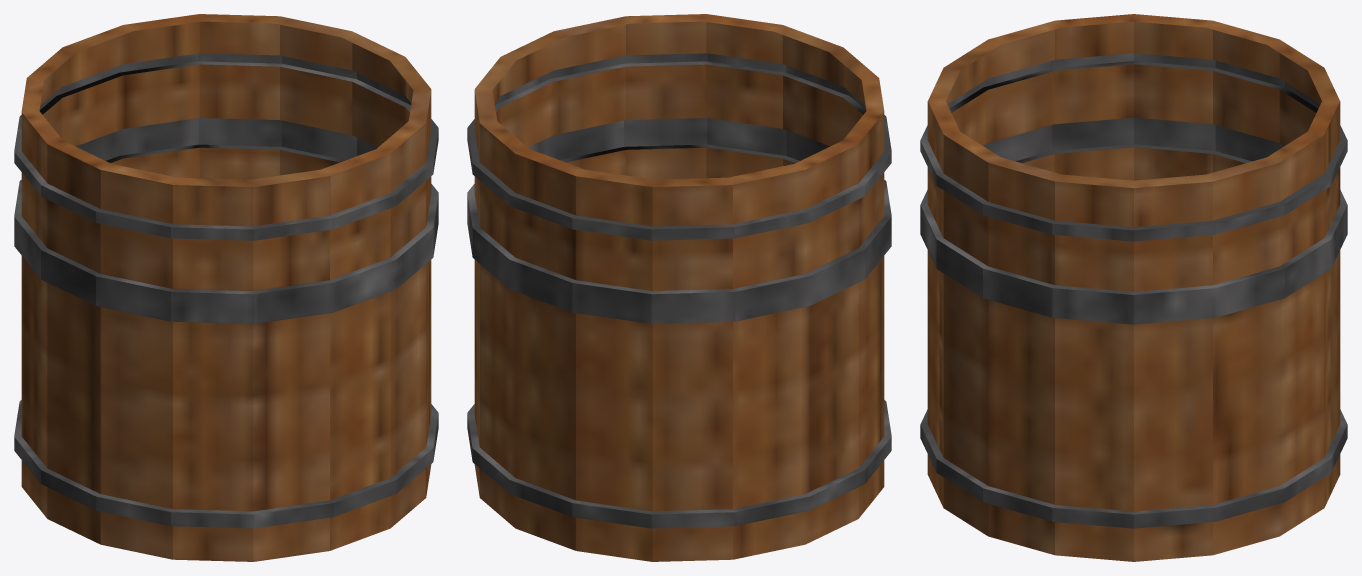
The model's file is bucket.fbx.
3 views of the same model, side by side, from view 1: azimuth 30°, elevation 25°; view 2: azimuth 150°, elevation 25°; view 3: azimuth 270°, elevation 25° (orthographic).
Parts seen in each view (by area): view 1: bucket; view 2: bucket; view 3: bucket.
Part boxes in pixels (box(x1,y1,x2,y2)): bucket: box(14, 14, 438, 561); bucket: box(467, 14, 891, 561); bucket: box(920, 14, 1347, 561).
Size of the model in its own units: 7.39 by 7.14 by 7.39.
